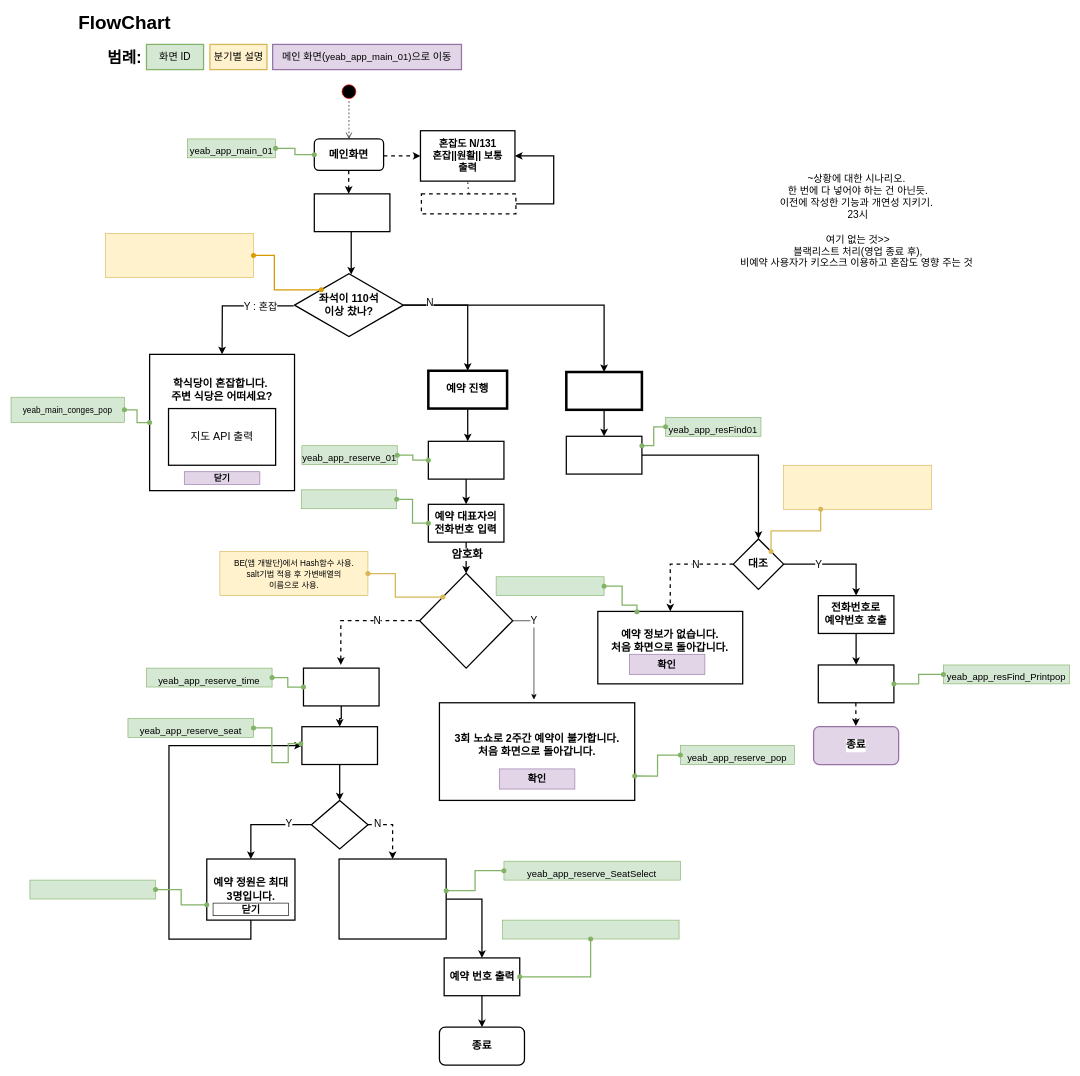
Image size: 1080x1076. Some labels were removed from this diagram. Here are the shapes that lost their labels. From the top down, the centre of each, then its label:
At point (351, 212): "예약하기 버튼 터치".
At point (468, 203): "새로고침".
At point (179, 255): "학식당 키오스크 결제 기준, 1건 단위, 25분 라이프사이클> 1좌석 계산 > 현재 사용중인 인원 구함.".
At point (604, 390): "예약 번호 조회".
At point (465, 459): "개인정보제공 동의 화면".
At point (603, 454): "사용한 전화번호 기입".
At point (349, 499): "yeab_app_reserve_02".
At point (857, 487): "BE(앱 개발단)에서 Hash함수 사용. salt기법 적용 후 DB에 예약건이 있는지 확인".
At point (549, 586): "yeab_app_resFind_pop".
At point (466, 620): "블랙리스트에 올라있는가?".
At point (341, 686): "시간 선택".
At point (855, 683): "예약번호 출력 팝업".
At point (339, 745): "좌석 선택".
At point (339, 824): "3<좌석".
At point (92, 889): "yeab_app_reserve_seat_pop".
At point (392, 898): "좌석 선택창 출력&& 고객이 좌석 선택".
At point (590, 929): "yeab_app_reserve_resCodePrint".
